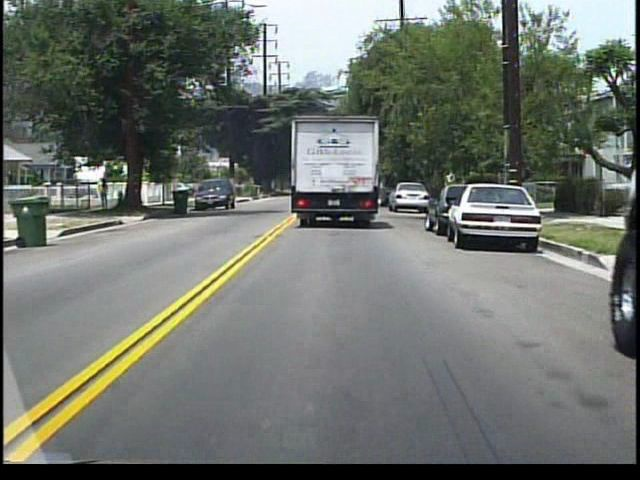person: (101, 178, 113, 211)
